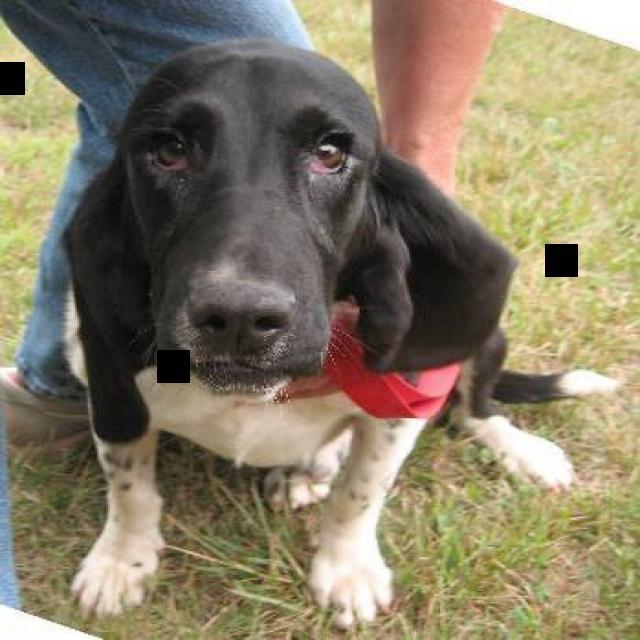adult_dog: (49, 40, 613, 625)
